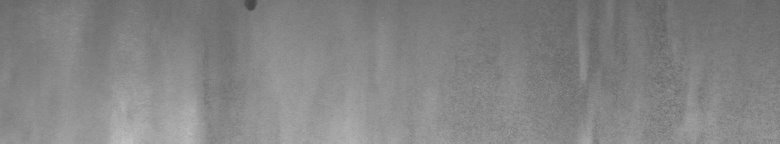fi: (244, 4, 260, 16)
